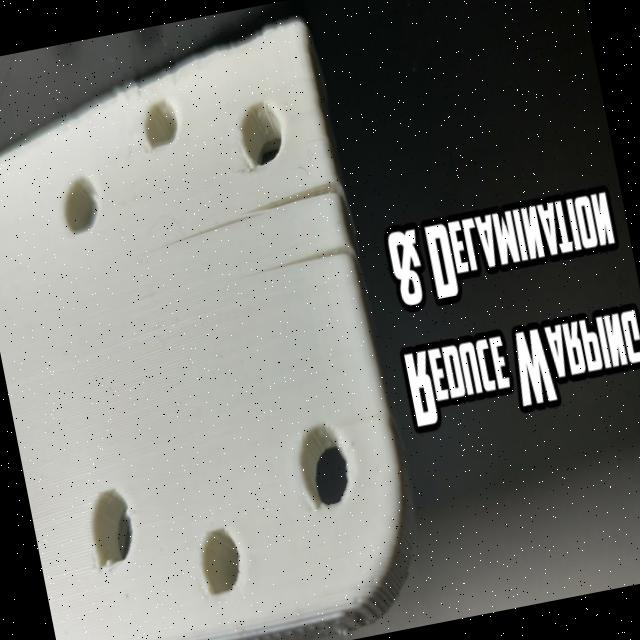cracks: (188, 156, 370, 306)
